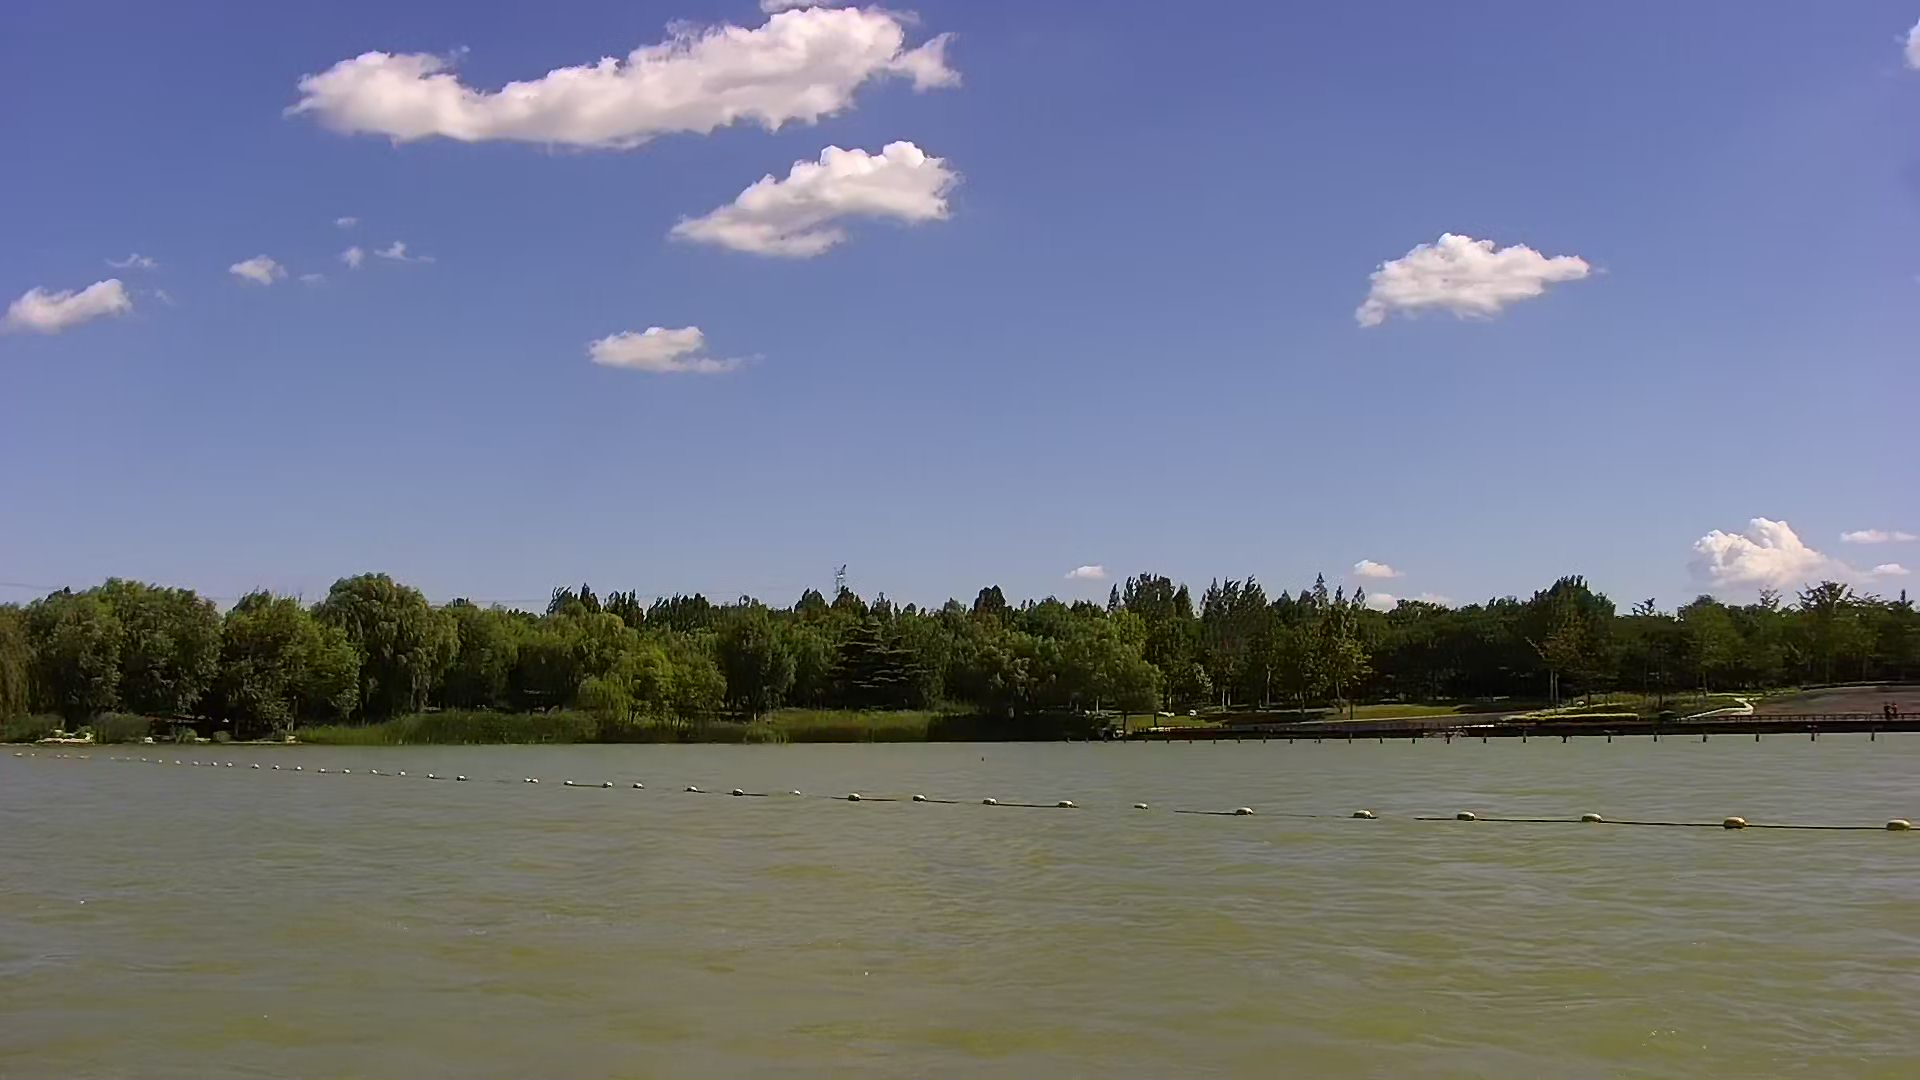ball: (1716, 796, 1767, 848), (1335, 794, 1396, 836), (1221, 790, 1269, 829), (1575, 798, 1623, 836), (1451, 796, 1491, 836), (1884, 808, 1911, 851)
